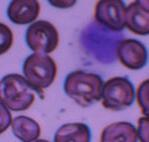L: (78, 19, 124, 66)
